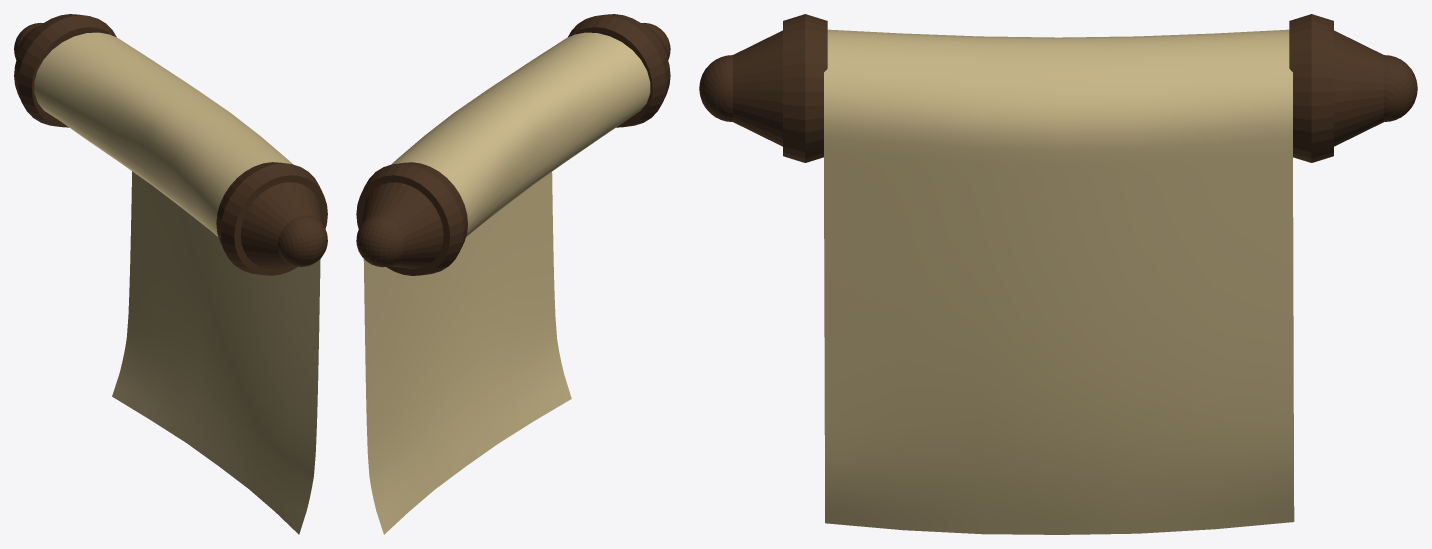
The model's file is ParcheminWall.fbx.
The picture shows the model from 3 angles, left to right: view 1: azimuth 30°, elevation 25°; view 2: azimuth 150°, elevation 25°; view 3: azimuth 270°, elevation 25°; orthographic projection. The views are drawn at different scales.
Visible parts, largest first — view 1: Sphere; view 2: Sphere; view 3: Sphere.
Part boxes in pixels (x1=…): Sphere: x1=14, y1=14, x2=327, y2=534; Sphere: x1=356, y1=14, x2=670, y2=534; Sphere: x1=699, y1=14, x2=1417, y2=534.
Bounding box in the file's own units: 76 × 228 × 306.
